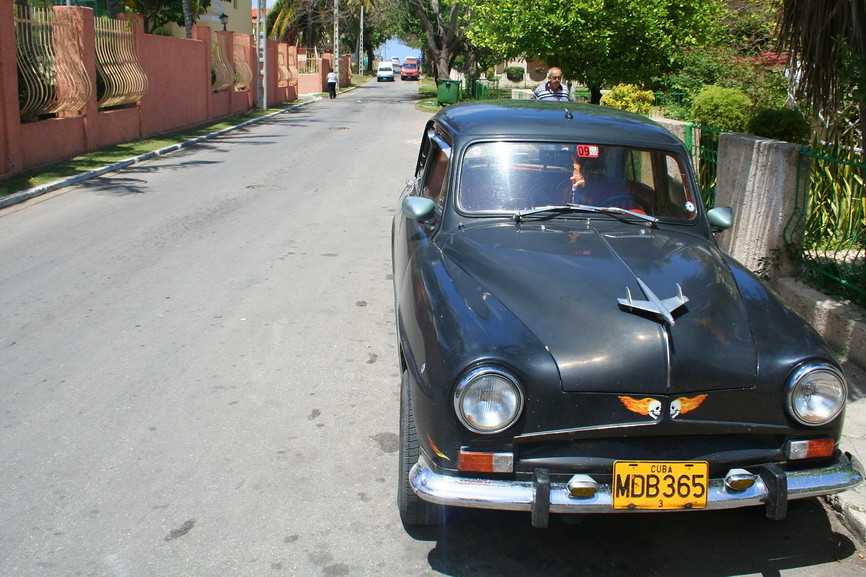car: (382, 68, 866, 576)
